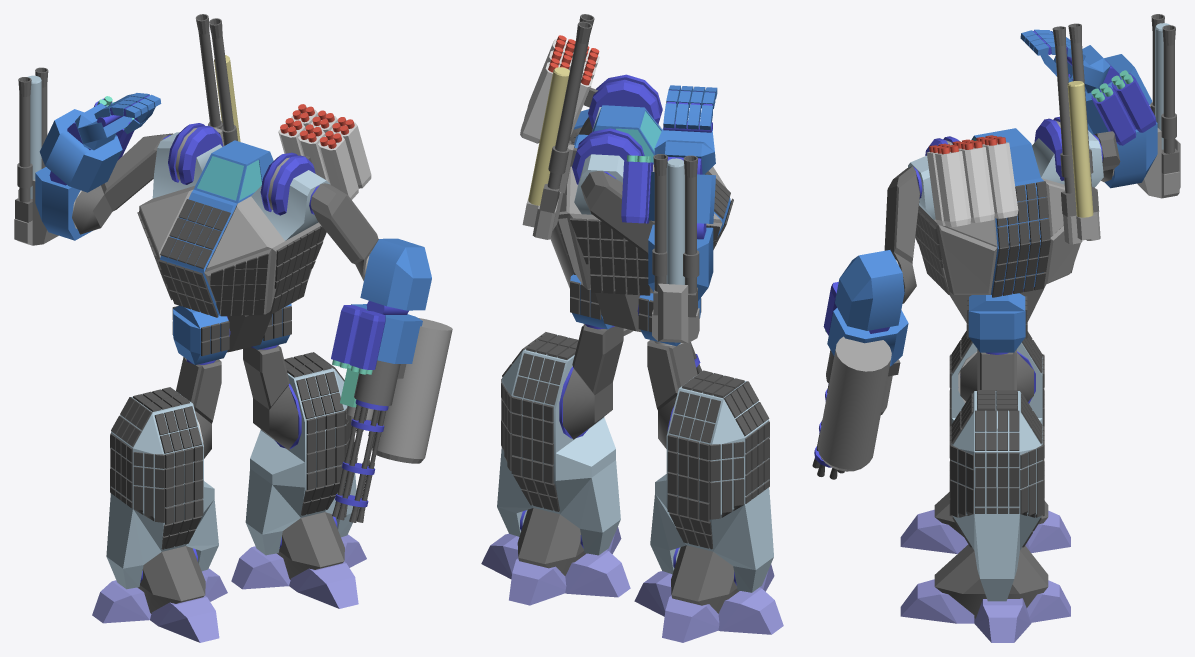
The model's file is BigFloppyWang.FBX.
3 renders of one model, left to right at view 1: azimuth 30°, elevation 25°; view 2: azimuth 150°, elevation 25°; view 3: azimuth 270°, elevation 25°, orthographic. The views are drawn at different scales.
Parts seen in each view (by area): view 1: T, La2, Rl3, Ll3, Ra2, DR01, Rl5, Ll5, Ra3, Ll2, Ra1, DG (+8 smaller); view 2: Rl3, Ll3, T, Ra2, DG, Rl5, Ll5, Ll2, Ra05, Ll4, Rl4, Ra3 (+7 smaller); view 3: T, Ll3, La2, DR01, DG, Ra2, Ll5, Ra3, Ll4, Ll1, La1, Rl5 (+7 smaller).
Part boxes in pixels (x1,y1,x2,y2): T: [137, 123, 329, 317]; La2: [331, 238, 452, 522]; Rl3: [106, 387, 218, 589]; Ll3: [245, 352, 356, 555]; Ra2: [14, 67, 92, 245]; DR01: [278, 104, 371, 199]; Rl5: [92, 568, 227, 642]; Ll5: [231, 534, 366, 608]; Ra3: [39, 96, 134, 192]; Ll2: [243, 345, 298, 449]; Ra1: [72, 133, 172, 234]; DG: [195, 14, 240, 146]; Rl3: [650, 370, 773, 592]; Ll3: [497, 332, 620, 555]; T: [557, 74, 733, 295]; Ra2: [648, 154, 713, 343]; DG: [522, 14, 594, 239]; Rl5: [634, 564, 783, 642]; Ll5: [481, 527, 630, 605]; Ll2: [563, 324, 623, 439]; Ra05: [654, 85, 717, 174]; Ll4: [517, 508, 586, 575]; Rl4: [671, 545, 739, 613]; Ra3: [621, 155, 715, 223]; T: [908, 116, 1103, 297]; Ll3: [949, 390, 1044, 601]; La2: [812, 250, 908, 479]; DR01: [926, 135, 1018, 227]; DG: [1052, 23, 1100, 244]; Ra2: [1104, 14, 1180, 198]; Ll5: [900, 579, 1070, 642]; Ra3: [1085, 54, 1156, 145]; Ll4: [934, 544, 1048, 618]; Ll1: [966, 293, 1027, 354]; La1: [884, 166, 920, 303]; Rl5: [900, 509, 1070, 553].
Size of the model in its own units: 152 by 274 by 165.
